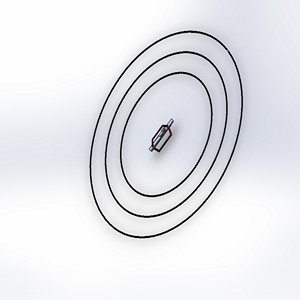circle: (76, 22, 250, 251)
submarine: (145, 111, 181, 162)
